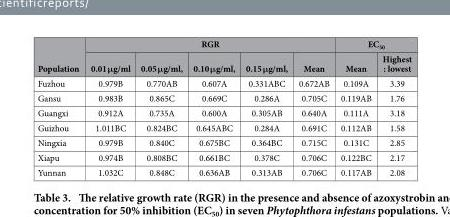table: (36, 37, 411, 178)
table column: (134, 37, 187, 178), (239, 37, 292, 178), (187, 37, 239, 178), (84, 37, 134, 178), (36, 37, 84, 178), (292, 37, 334, 178), (334, 37, 376, 178), (376, 37, 411, 178)
table column header: (36, 37, 411, 75)
table row: (36, 51, 411, 75), (36, 75, 411, 90), (36, 90, 411, 105), (36, 119, 411, 134), (36, 134, 411, 149), (36, 149, 411, 164), (36, 37, 411, 51), (36, 105, 411, 119), (36, 164, 411, 178)
table spanning cell: (84, 37, 334, 51), (36, 37, 84, 75), (334, 37, 411, 51)
